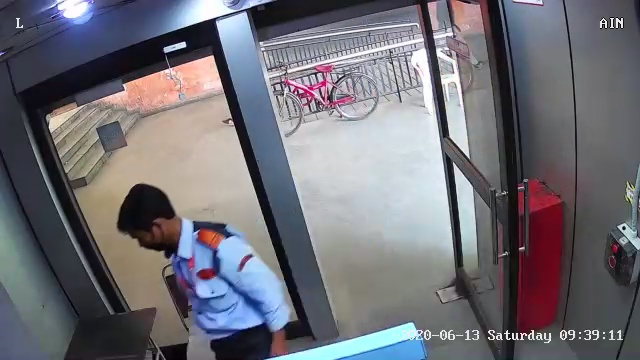open: (217, 4, 547, 357)
